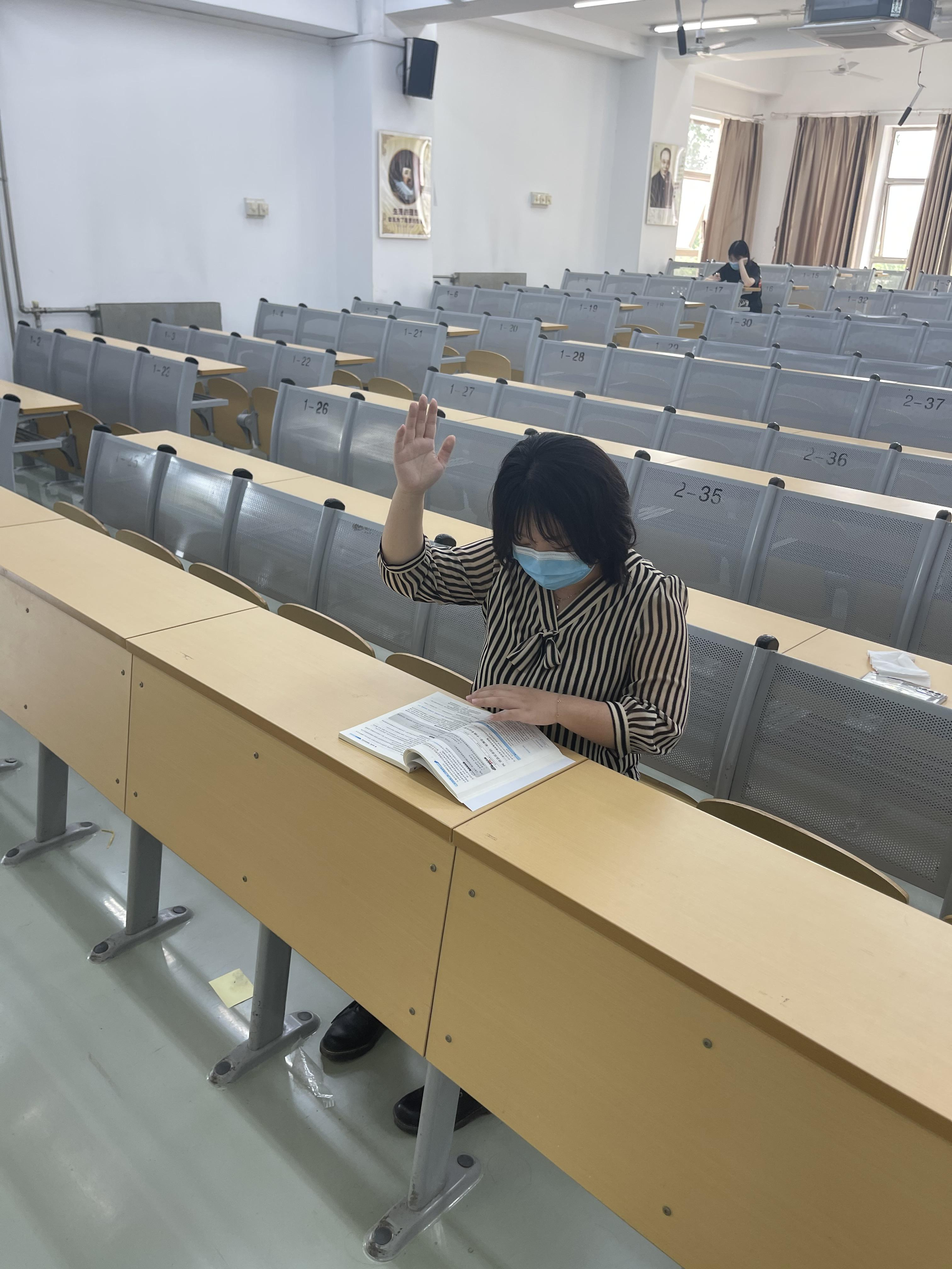study: (363, 380, 694, 808)
